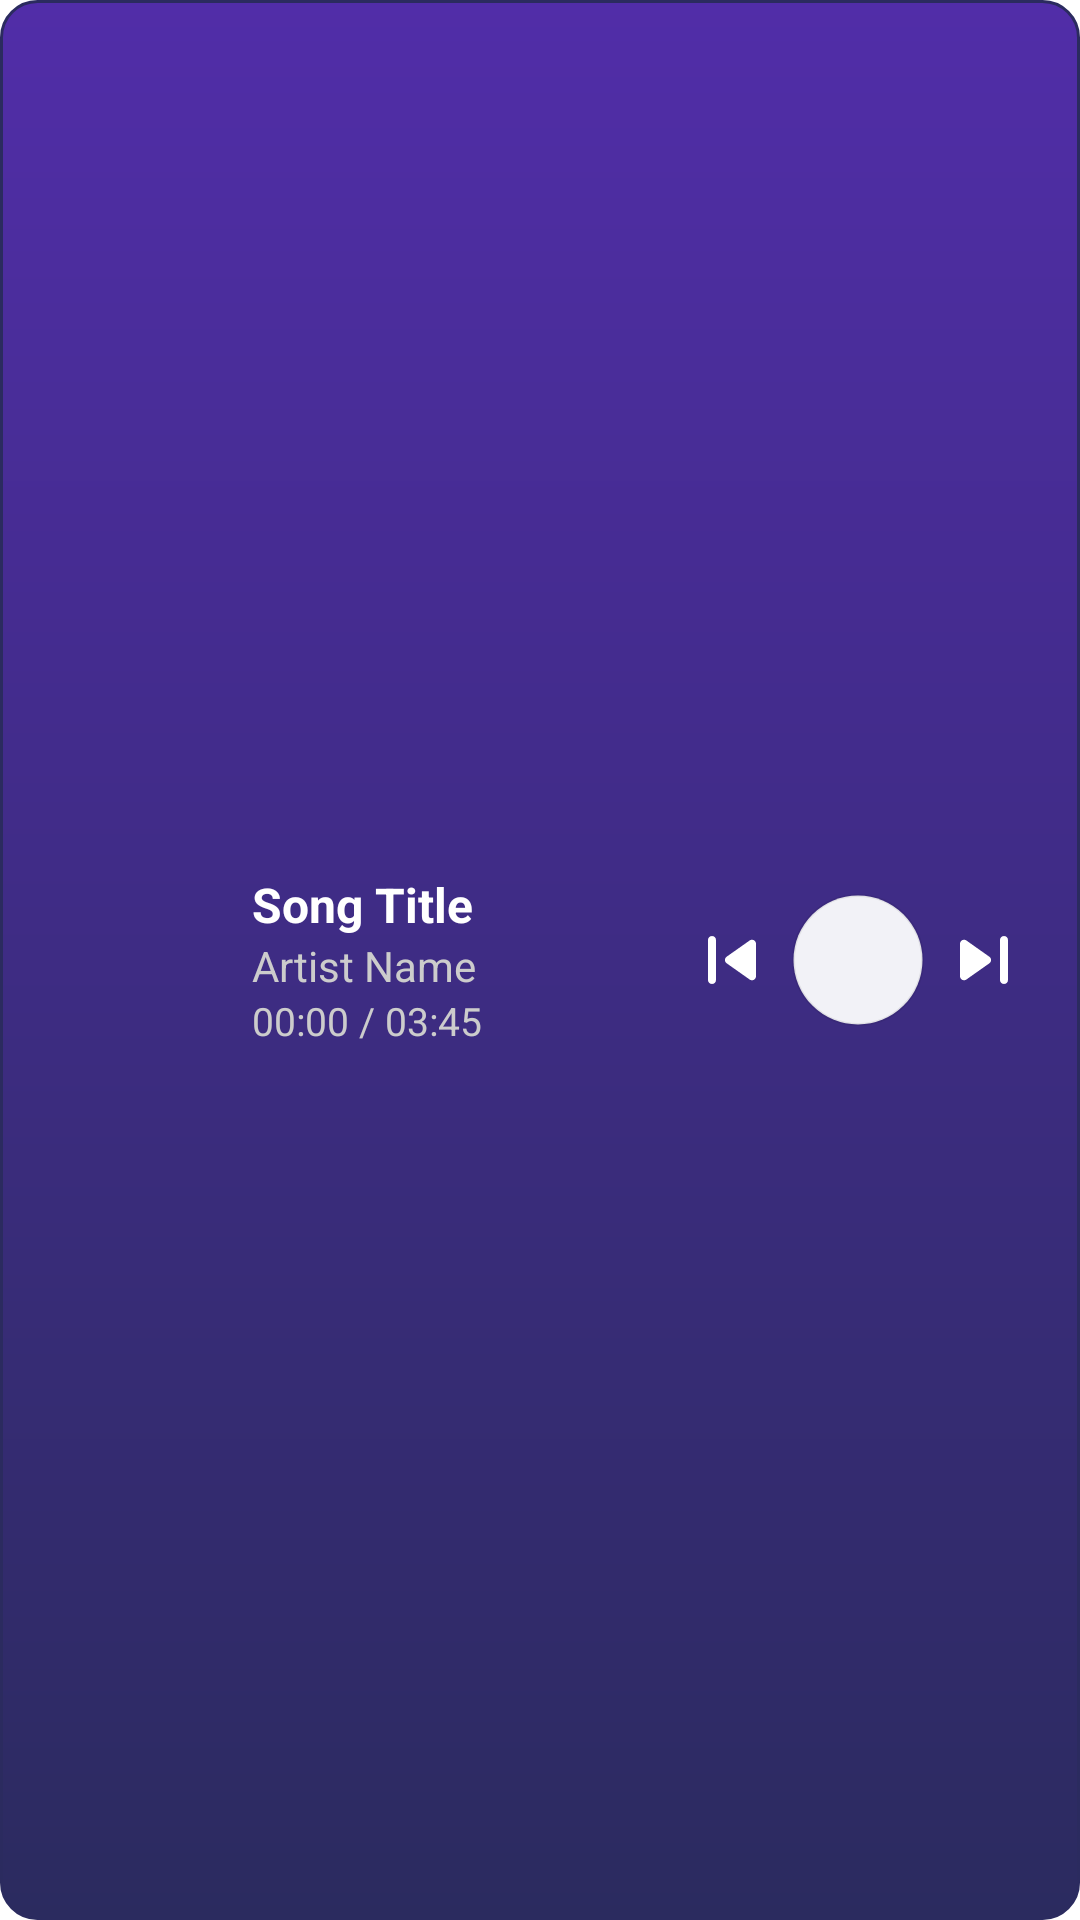

Point at icon controls on the screen. Image size 1080*1920, points as point (x, y).
skip next: point (984, 960)
skip previous: point (732, 960)
